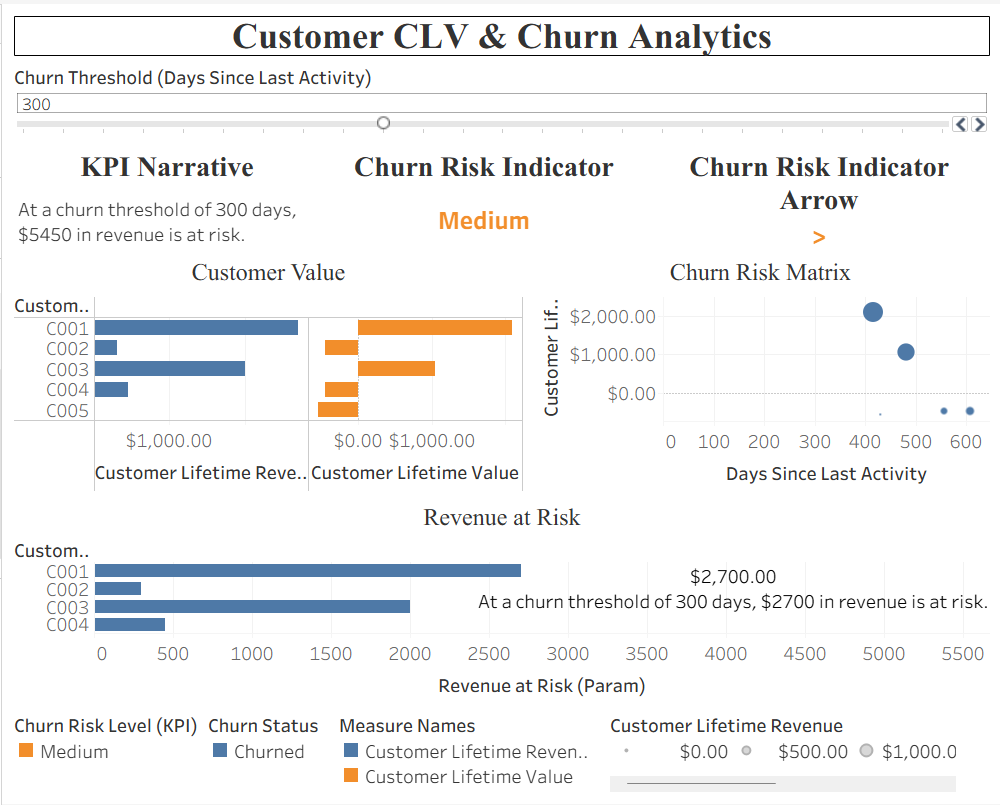

Layout of this report page (visuals, bound fields, positions):
{"tool":"tableau","page":{"name":"Customer CLV & Churn Analytics","canvas":[1000,800],"ordinal":0},"visuals":[{"type":"title","box":[8,8,984,48]},{"type":"parameter","param":"[Parameters].[Customers.csv Parameter]","box":[8,56,984,83]},{"type":"worksheet","title":"KPI Narrative","mark":"Text","box":[8,139,314,108]},{"type":"worksheet","title":"Churn Risk Indicator","mark":"Text","box":[322,139,320,108]},{"type":"worksheet","title":"Churn Risk Indicator Arrow","mark":"Text","box":[642,139,350,108]},{"type":"worksheet","title":"Customer Value","mark":"Bar","rows":["Customer_ID"],"cols":["Calculation_1987128531902464","Calculation_1987128532197377"],"box":[8,247,517,245]},{"type":"worksheet","title":"Churn Risk Matrix","mark":"Circle","rows":["Calculation_1987128532197377"],"cols":["Calculation_1987128532344834"],"box":[525,247,467,245]},{"type":"worksheet","title":"Revenue at Risk","mark":"Bar","rows":["Customer_ID"],"cols":["Calculation_1987128907517959"],"box":[8,492,984,212]},{"type":"legend","title":"Churn Risk Indicator","param":"[federated.0ifj42b15z5nwi13f39no1k4ow1e].[usr:Calculation_1987128923054093:nk]","box":[8,704,194,59]},{"type":"legend","title":"Churn Risk Matrix","param":"[federated.0ifj42b15z5nwi13f39no1k4ow1e].[none:Calculation_1987128534392835:nk]","box":[202,704,131,88]},{"type":"legend","title":"Customer Value","param":"[federated.0ifj42b15z5nwi13f39no1k4ow1e].[:Measure Names]","box":[333,704,271,88]},{"type":"legend","title":"Churn Risk Matrix","param":"[federated.0ifj42b15z5nwi13f39no1k4ow1e].[sum:Calculation_1987128531902464:qk]","box":[604,704,356,88]}]}

Visuals, with their boxes in screenshot pixels (x1, y1, x2, y2), scaled from the page's 1000x800 canvas onto the 1000x805 screenshot:
title: {"x1": 8, "y1": 8, "x2": 992, "y2": 56}
parameter: {"x1": 8, "y1": 56, "x2": 992, "y2": 140}
"KPI Narrative" worksheet (Text marks): {"x1": 8, "y1": 140, "x2": 322, "y2": 249}
"Churn Risk Indicator" worksheet (Text marks): {"x1": 322, "y1": 140, "x2": 642, "y2": 249}
"Churn Risk Indicator Arrow" worksheet (Text marks): {"x1": 642, "y1": 140, "x2": 992, "y2": 249}
"Customer Value" worksheet (Bar marks): {"x1": 8, "y1": 249, "x2": 525, "y2": 495}
"Churn Risk Matrix" worksheet (Circle marks): {"x1": 525, "y1": 249, "x2": 992, "y2": 495}
"Revenue at Risk" worksheet (Bar marks): {"x1": 8, "y1": 495, "x2": 992, "y2": 708}
"Churn Risk Indicator" legend: {"x1": 8, "y1": 708, "x2": 202, "y2": 768}
"Churn Risk Matrix" legend: {"x1": 202, "y1": 708, "x2": 333, "y2": 797}
"Customer Value" legend: {"x1": 333, "y1": 708, "x2": 604, "y2": 797}
"Churn Risk Matrix" legend: {"x1": 604, "y1": 708, "x2": 960, "y2": 797}
